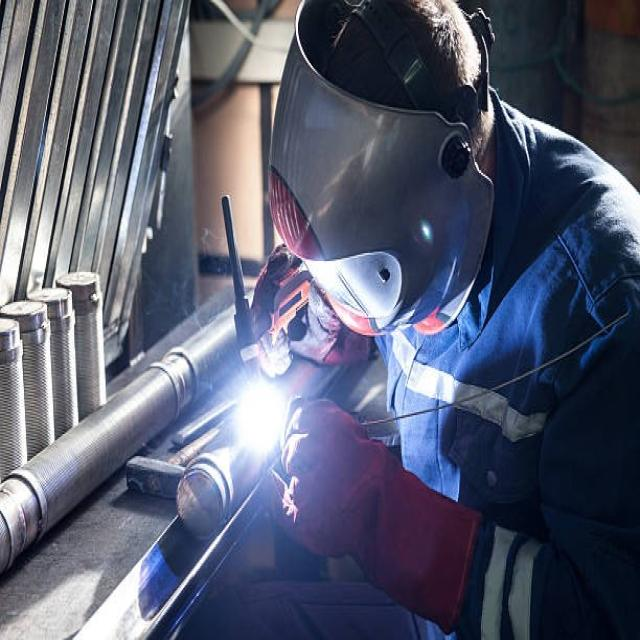welding: (240, 383, 291, 453)
